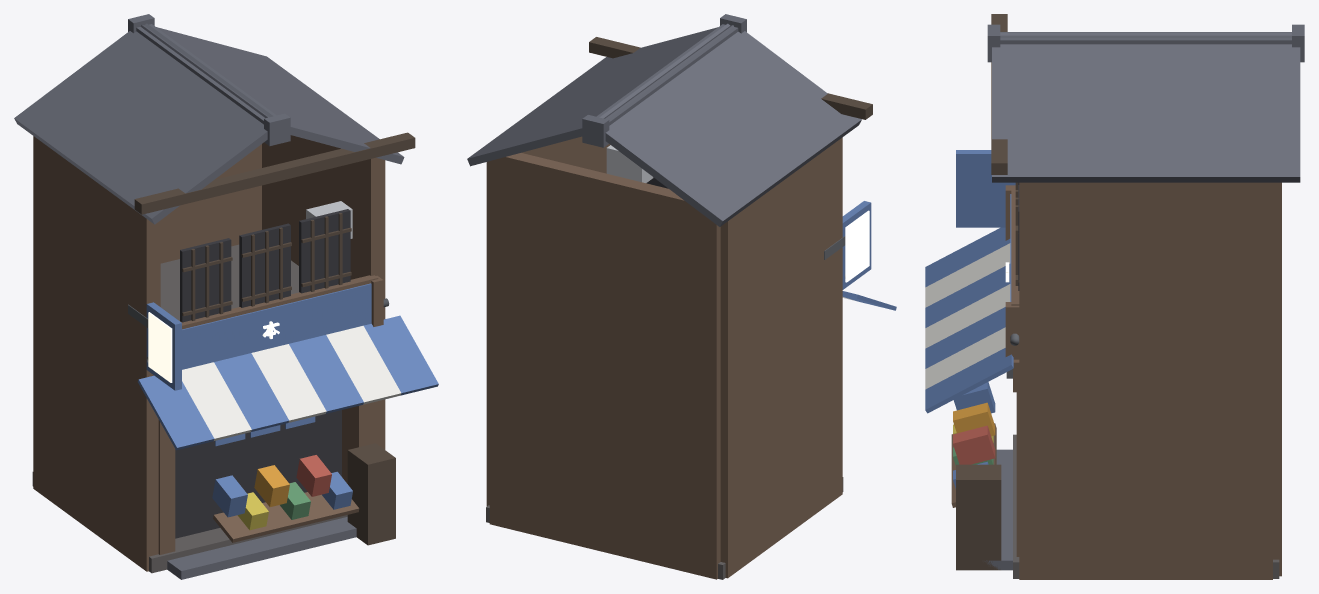
Rendered from prop_shop_honya.glb.
3 views of the same model, side by side, from view 1: azimuth 30°, elevation 25°; view 2: azimuth 150°, elevation 25°; view 3: azimuth 270°, elevation 25° (orthographic). The views are drawn at different scales.
Visible parts, largest first — view 1: shop_honya; view 2: shop_honya; view 3: shop_honya.
Part boxes in pixels (x1,y1,x2,y2): shop_honya: (14, 14, 438, 579); shop_honya: (467, 14, 896, 579); shop_honya: (925, 14, 1304, 579).
Bounding box in the file's own units: 3.9 × 5.9 × 4.19.
